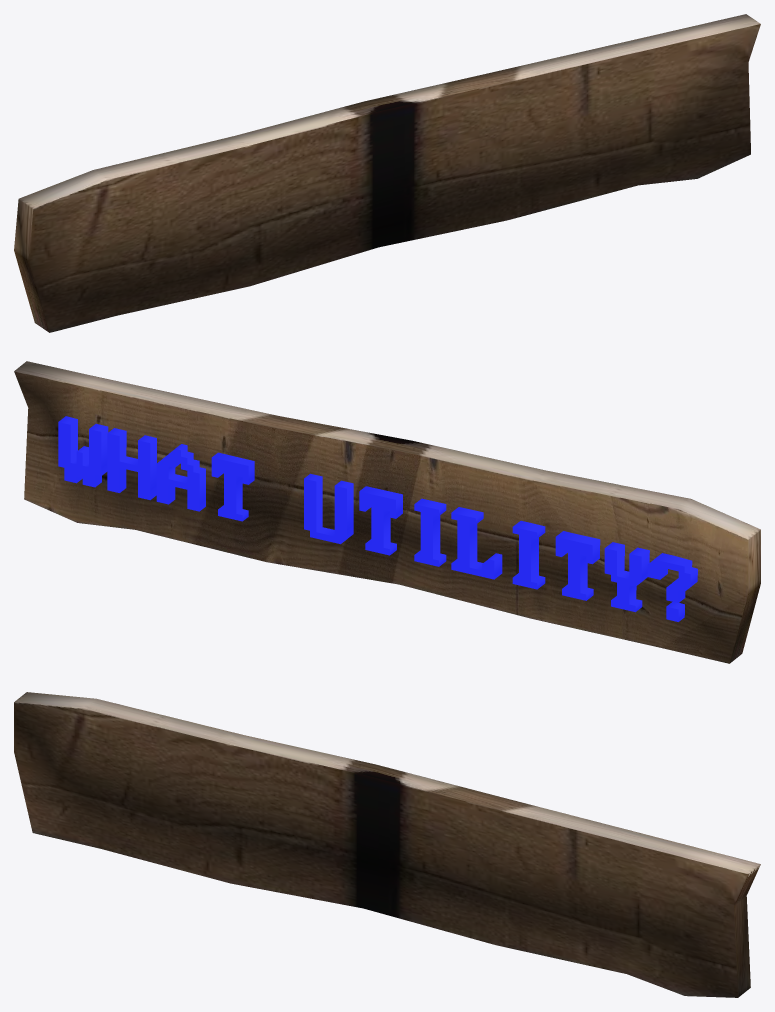
Rendered from sign3-transformed.glb.
3 renders of one model, top to bottom at view 1: azimuth 30°, elevation 25°; view 2: azimuth 150°, elevation 25°; view 3: azimuth 330°, elevation 25°, orthographic.
Parts seen in each view (by area): view 1: 3 utility; view 2: 3 utility; view 3: 3 utility.
Boxes of the visible parts, x1,y1,x2,y2 form: 3 utility: [14, 14, 760, 332]; 3 utility: [14, 361, 760, 663]; 3 utility: [14, 692, 760, 997].
Size of the model in its own units: 1.87 by 0.3692 by 0.1418.
2 materials, 1 textured.
